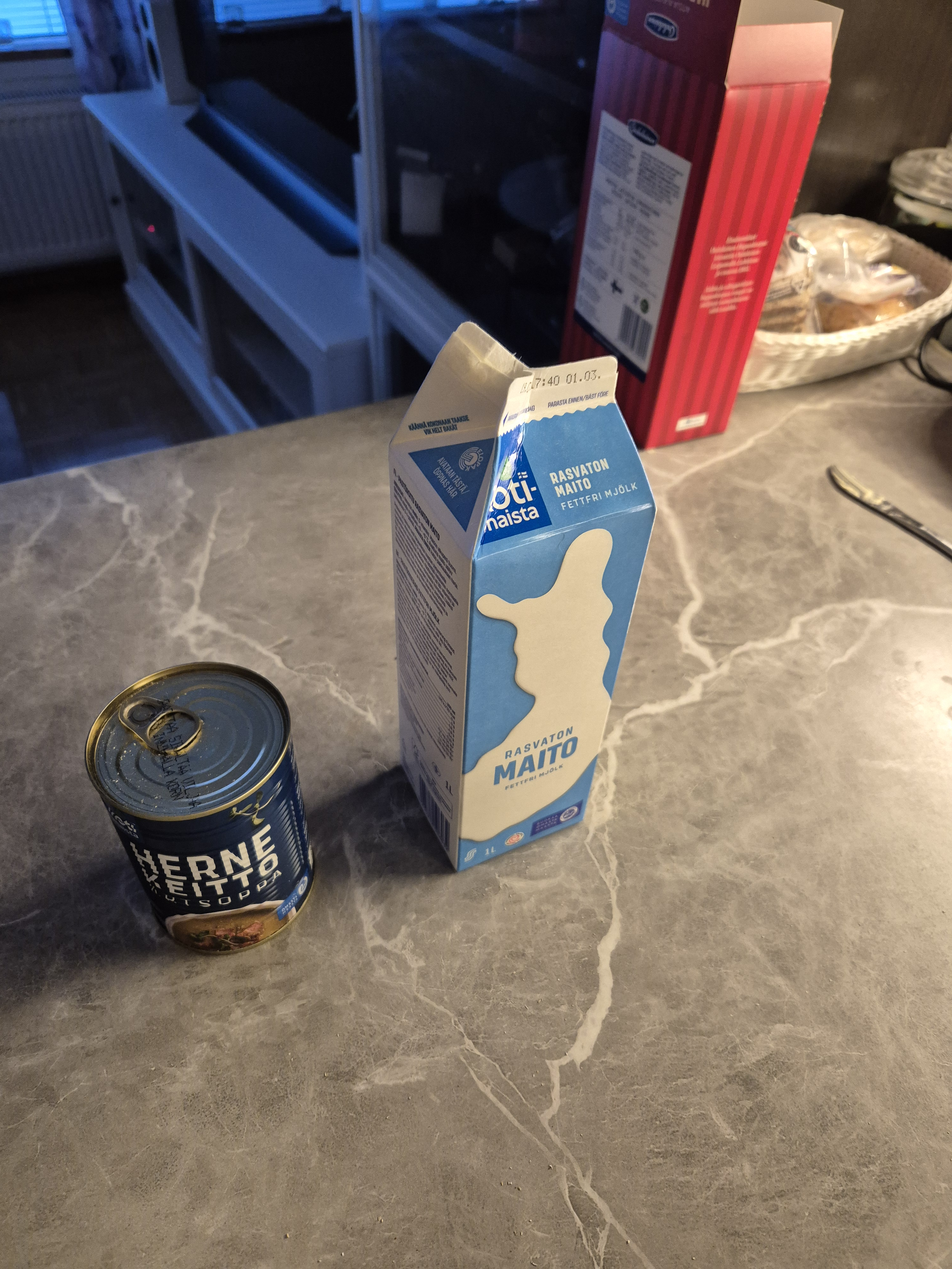Dryckeskartong: (387, 319, 658, 873)
Konservburk: (84, 661, 319, 955)
